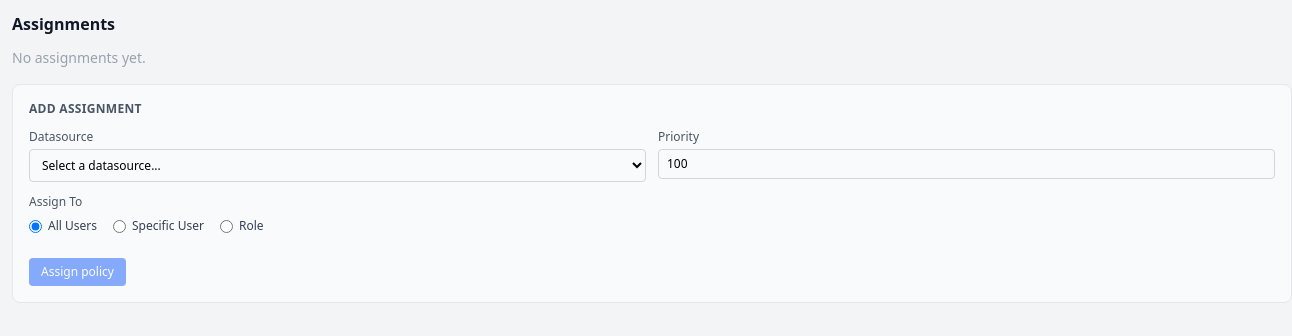
PolicyAssignmentEditPanel › shows error message when duplicate assignment returns 409
Select "prod-db" in the dropdown: (338, 166) [29,149,646,182]
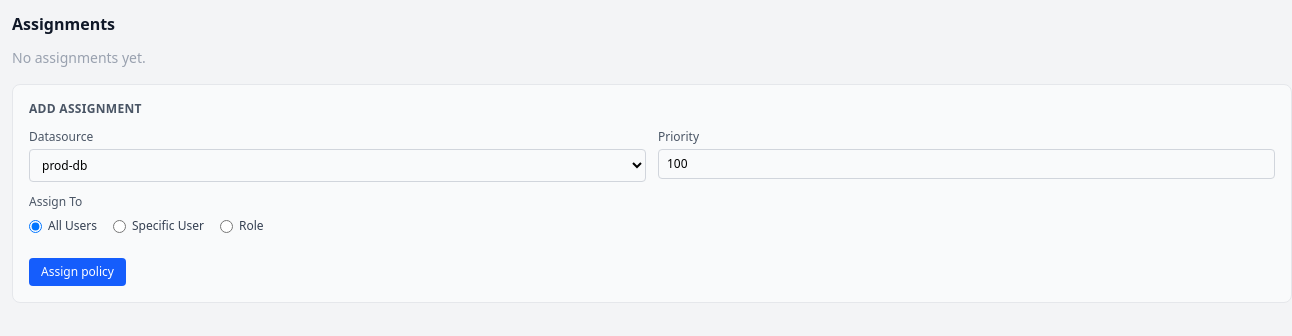
Result: the button "Assign policy" is enabled
Click the button "Assign policy": click(77, 272) [29,258,126,286]
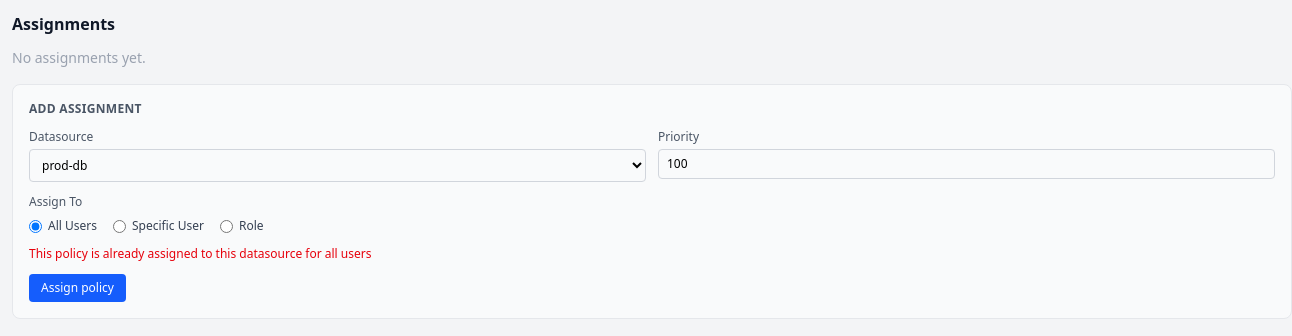
Result: the text "already assigned to this datasource for all users" is shown at [29,245,371,262]
